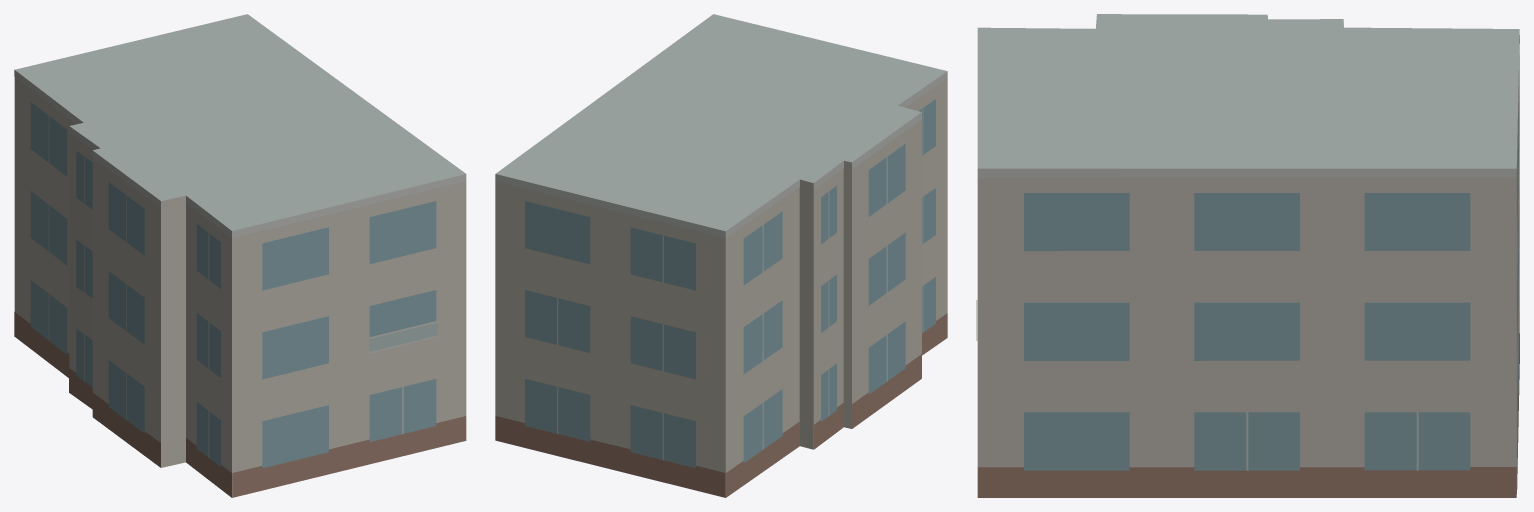
Rendered from survey-upis-33031229.glb.
The picture shows the model from 3 angles, left to right: view 1: azimuth 30°, elevation 25°; view 2: azimuth 150°, elevation 25°; view 3: azimuth 270°, elevation 25°; orthographic projection. The views are drawn at different scales.
Parts seen in each view (by area): view 1: survey-upis-33031229.tmp; view 2: survey-upis-33031229.tmp; view 3: survey-upis-33031229.tmp.
Part boxes in pixels (x1,y1,x2,y2): survey-upis-33031229.tmp: [14, 14, 466, 497]; survey-upis-33031229.tmp: [495, 14, 947, 497]; survey-upis-33031229.tmp: [976, 14, 1519, 497].
Size of the model in its own units: 9.23 by 9.15 by 13.7.
